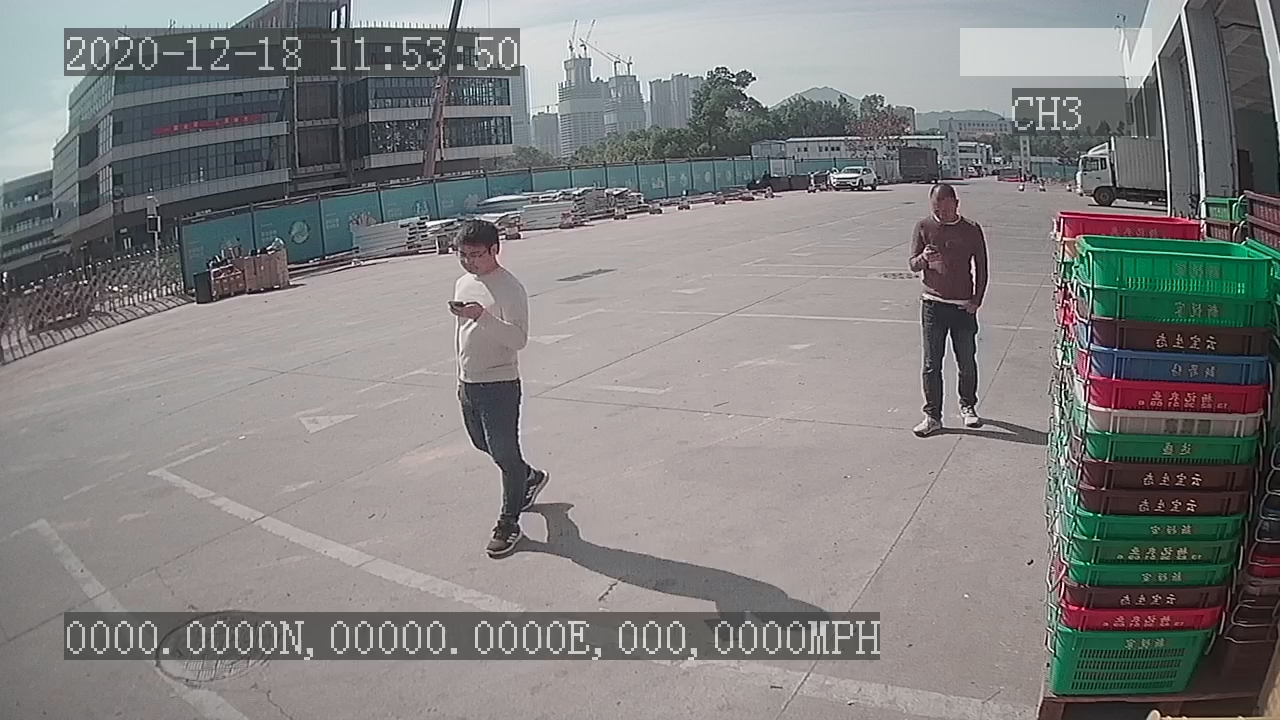person: (431, 219, 560, 565), (902, 179, 995, 433)
